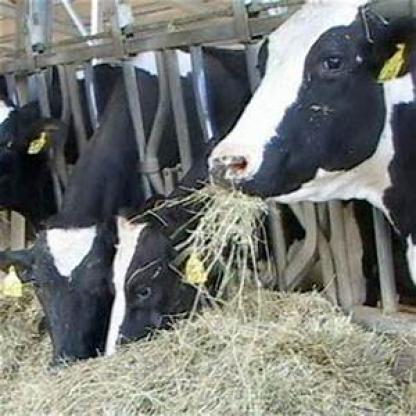cow: (208, 3, 415, 288), (0, 200, 118, 370), (89, 207, 209, 358)
